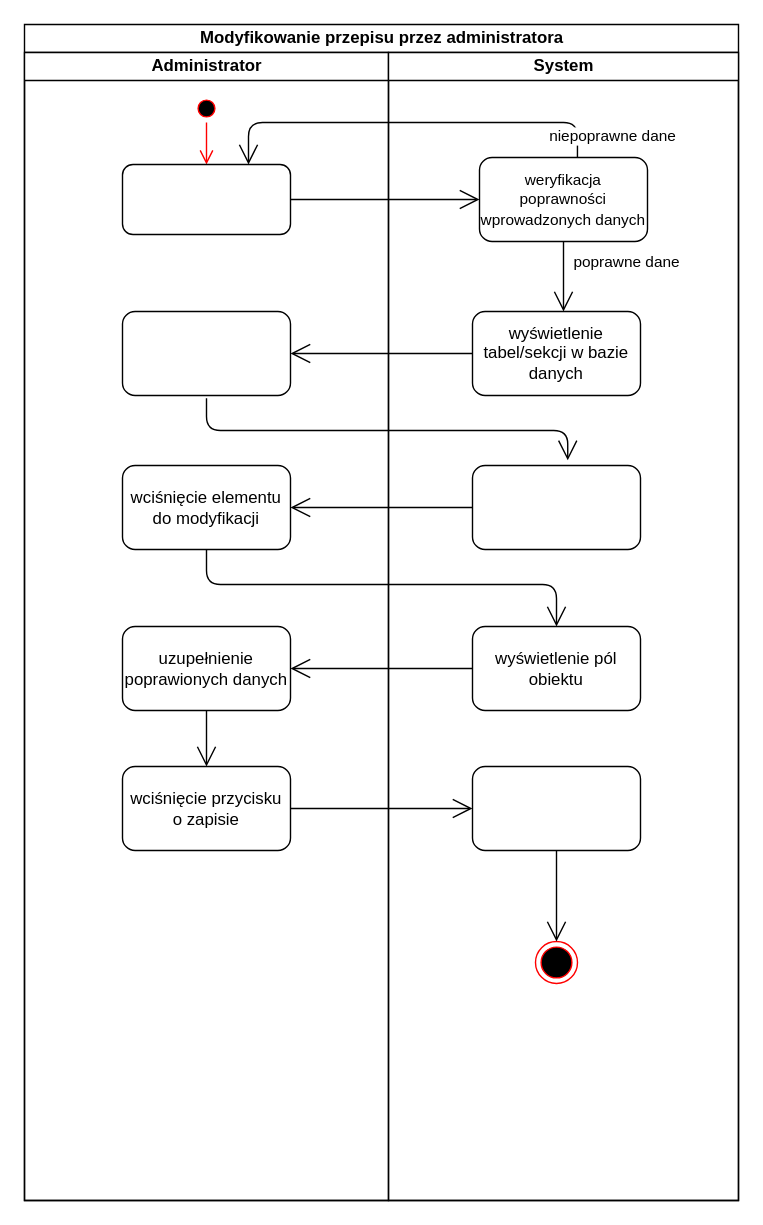
The diagram is 763 pixels wide and 1225 high, and some of its shapes have lost their labels. The centre of each missing label's shape, as x and y in pixels:
"wpisanie danych do logowania" goes at (205,198).
"wybór konkretnej tabeli/sekcji do modyfikacji" goes at (205,353).
"wyświetlenie zawartości tabeli" goes at (555,507).
"zapisanie danych do bazy" goes at (555,807).
